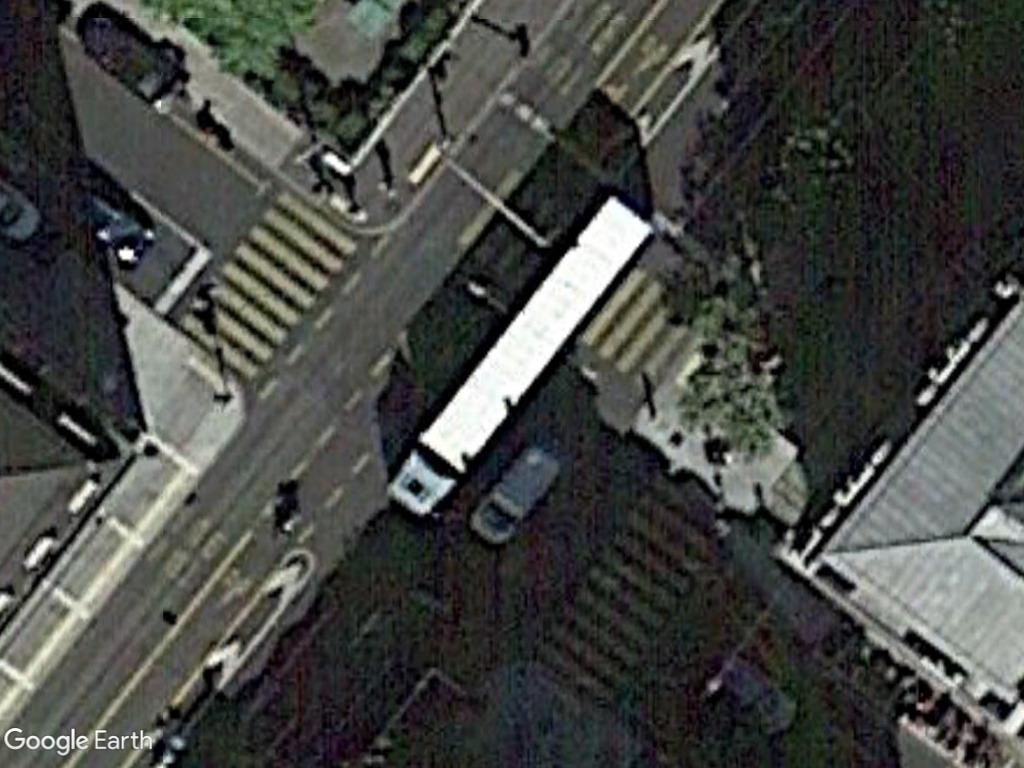longvehicle: (379, 197, 661, 521)
van: (463, 438, 563, 546)
